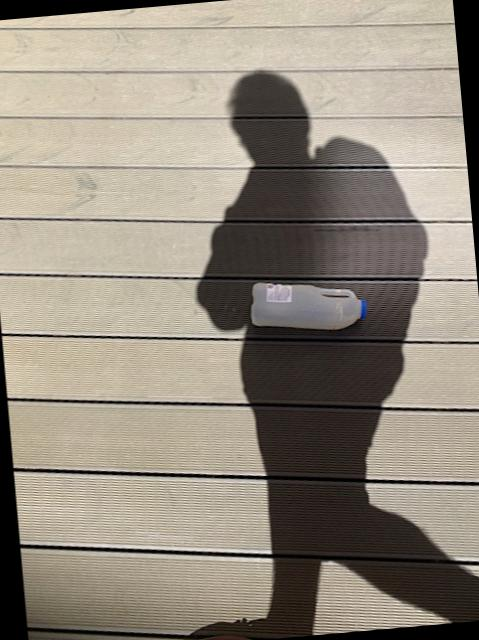plastic: (248, 284, 363, 331)
